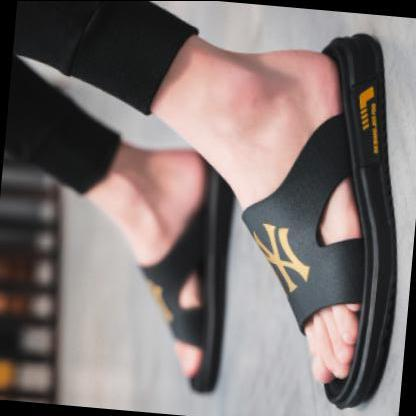no_safety-shoe: (240, 9, 415, 414), (108, 134, 241, 391)
